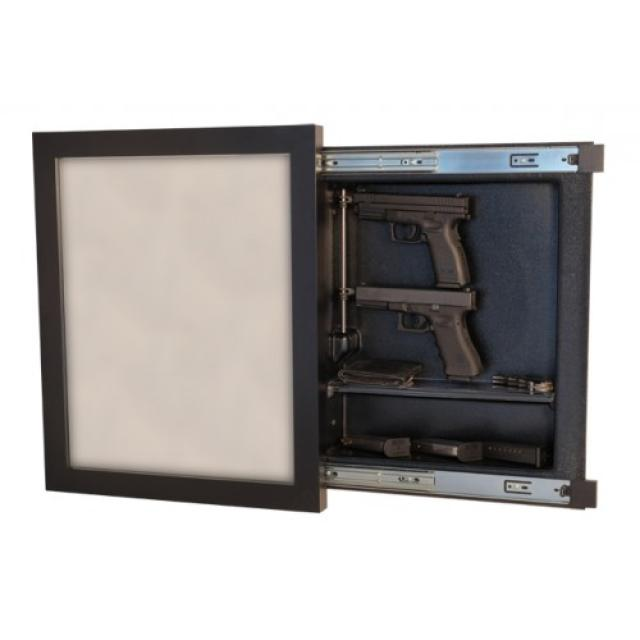HandGun: (357, 287, 484, 378), (353, 193, 471, 288)
